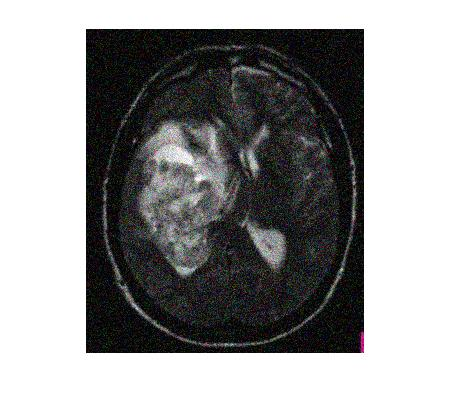Brain_Cancer: (139, 133, 220, 260)
